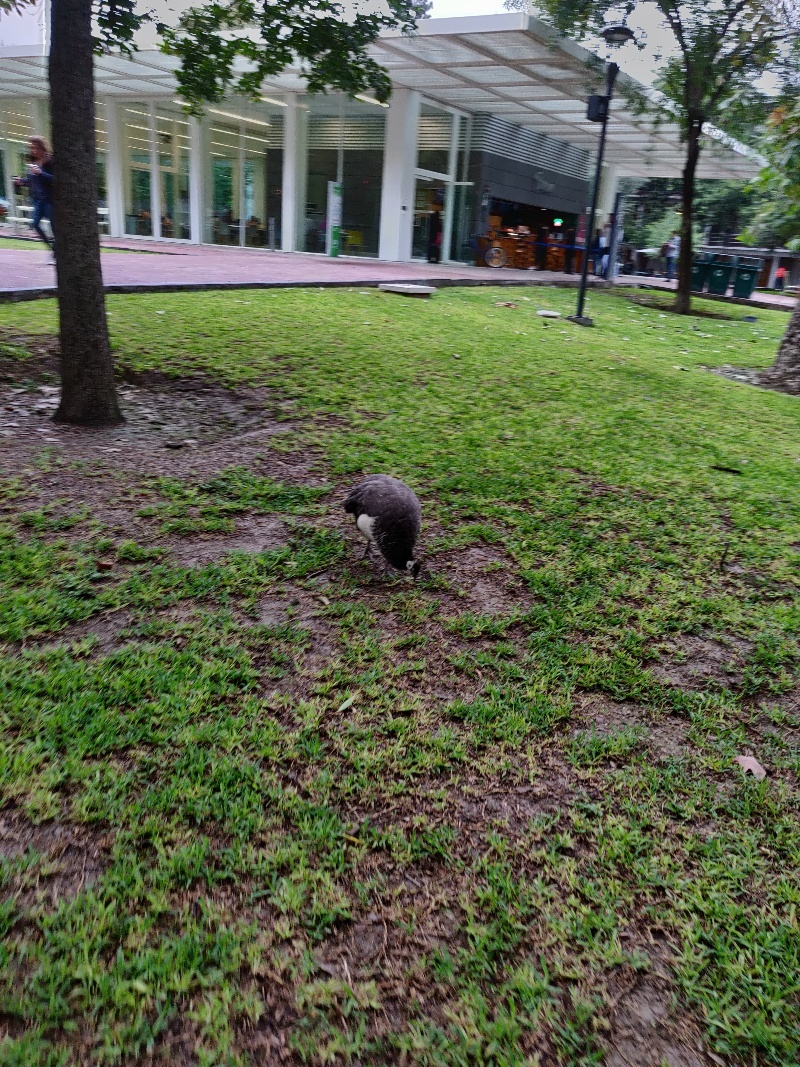pavoreal: (341, 474, 424, 589)
